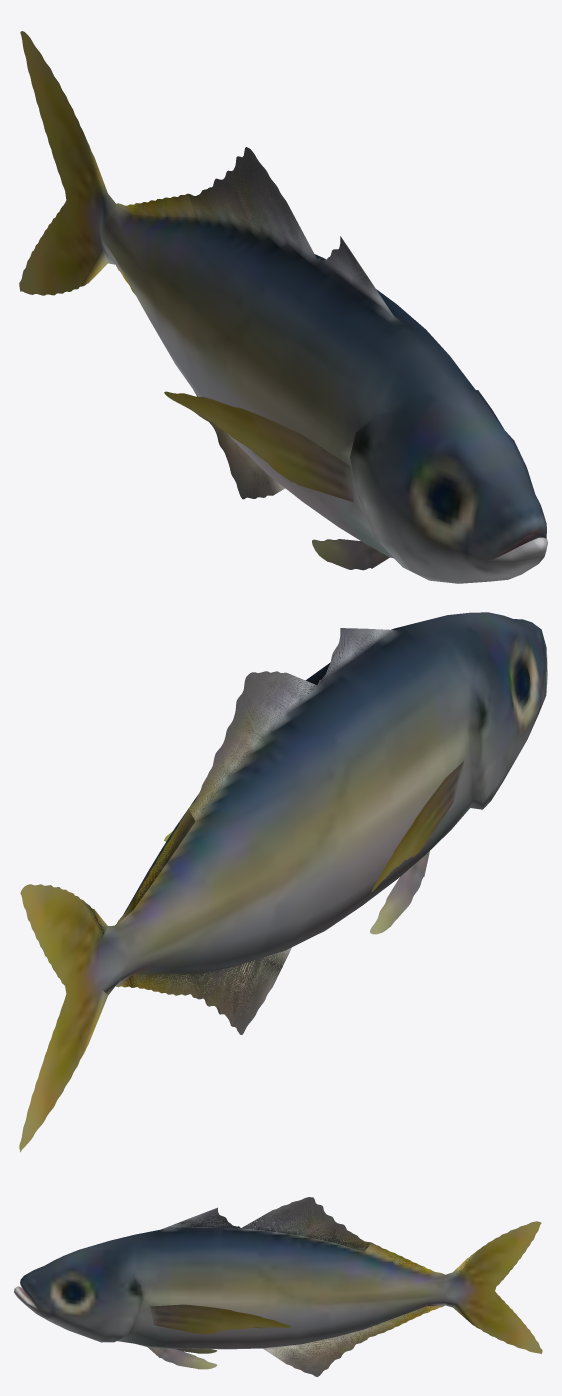
Rendered from horse-mackerel.glb.
3 views of the same model, one above another, from view 1: azimuth 30°, elevation 25°; view 2: azimuth 150°, elevation 25°; view 3: azimuth 270°, elevation 25° (orthographic). The views are drawn at different scales.
Size of the model in its own units: 1.46 by 2.36 by 6.05.
Materials: 1 (1 with a texture image).
